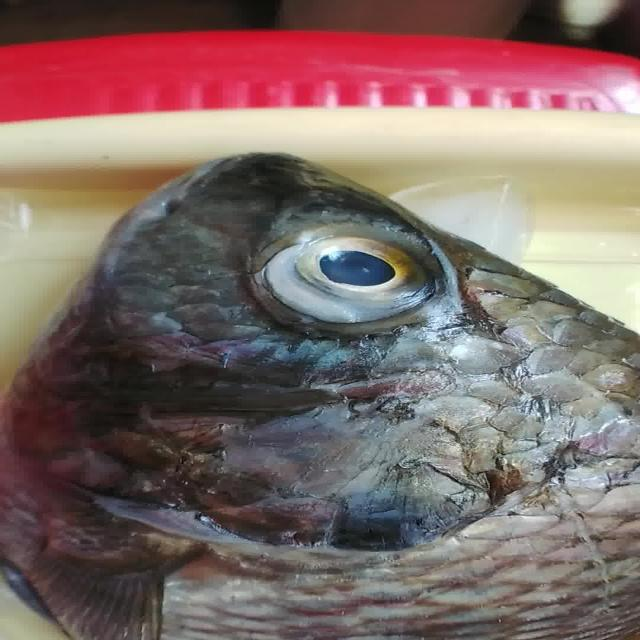Fresh: (231, 203, 495, 344)
